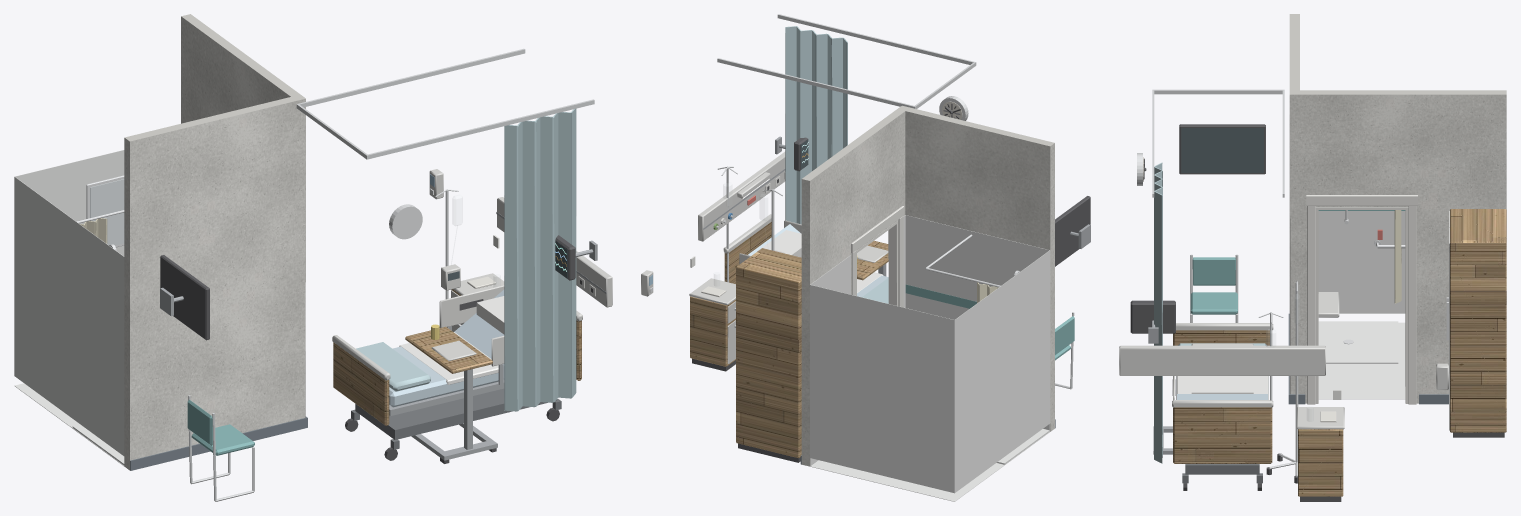
Rendered from room_ward_412x358.glb.
3 views of the same model, side by side, from view 1: azimuth 30°, elevation 25°; view 2: azimuth 150°, elevation 25°; view 3: azimuth 270°, elevation 25° (orthographic). The views are drawn at different scales.
Parts seen in each view (by area): view 1: room_ward_412x358_plaster, room_ward_412x358_tile_c, room_ward_412x358_curtain, room_ward_412x358_cart_w, room_ward_412x358_laminate, room_ward_412x358_steel, room_ward_412x358_steel_d, room_ward_412x358_alu, room_ward_412x358_dark, room_ward_412x358_bed_b, room_ward_412x358_chrome, room_ward_412x358_vinyl_t (+3 smaller); view 2: room_ward_412x358_tile_c, room_ward_412x358_plaster, room_ward_412x358_laminate, room_ward_412x358_curtain, room_ward_412x358_cart_w, room_ward_412x358_dark, room_ward_412x358_frame, room_ward_412x358_alu, room_ward_412x358_chrome, room_ward_412x358_vinyl_t, room_ward_412x358_bed_w, room_ward_412x358_steel; view 3: room_ward_412x358_plaster, room_ward_412x358_laminate, room_ward_412x358_tile_c, room_ward_412x358_cart_w, room_ward_412x358_frame, room_ward_412x358_screen, room_ward_412x358_dark, room_ward_412x358_curtain, room_ward_412x358_vinyl_t, room_ward_412x358_chrome, room_ward_412x358_bed_w, room_ward_412x358_alu (+6 smaller).
Boxes of the visible parts, x1,y1,x2,y2 form: room_ward_412x358_plaster: [124, 14, 305, 470]; room_ward_412x358_tile_c: [14, 150, 124, 465]; room_ward_412x358_curtain: [356, 108, 576, 411]; room_ward_412x358_cart_w: [332, 169, 612, 380]; room_ward_412x358_laminate: [333, 289, 581, 425]; room_ward_412x358_steel: [160, 212, 606, 460]; room_ward_412x358_steel_d: [351, 388, 561, 449]; room_ward_412x358_alu: [296, 48, 594, 159]; room_ward_412x358_dark: [160, 235, 593, 340]; room_ward_412x358_bed_b: [389, 289, 504, 407]; room_ward_412x358_chrome: [76, 175, 461, 501]; room_ward_412x358_vinyl_t: [187, 399, 254, 455]; room_ward_412x358_tile_c: [810, 215, 1050, 501]; room_ward_412x358_plaster: [801, 105, 1054, 466]; room_ward_412x358_laminate: [690, 222, 888, 458]; room_ward_412x358_curtain: [785, 26, 888, 303]; room_ward_412x358_cart_w: [641, 151, 888, 363]; room_ward_412x358_dark: [692, 103, 1090, 462]; room_ward_412x358_frame: [851, 206, 904, 307]; room_ward_412x358_alu: [717, 14, 976, 108]; room_ward_412x358_chrome: [649, 96, 1074, 389]; room_ward_412x358_vinyl_t: [905, 284, 1074, 360]; room_ward_412x358_bed_w: [758, 230, 883, 292]; room_ward_412x358_steel: [703, 136, 1090, 276]; room_ward_412x358_plaster: [1289, 14, 1506, 403]; room_ward_412x358_laminate: [1173, 209, 1506, 496]; room_ward_412x358_tile_c: [1318, 211, 1405, 399]; room_ward_412x358_cart_w: [1119, 210, 1449, 430]; room_ward_412x358_frame: [1306, 195, 1417, 404]; room_ward_412x358_screen: [1181, 128, 1263, 172]; room_ward_412x358_dark: [1130, 124, 1504, 501]; room_ward_412x358_curtain: [1154, 162, 1266, 463]; room_ward_412x358_vinyl_t: [1190, 210, 1405, 314]; room_ward_412x358_chrome: [1137, 153, 1448, 476]; room_ward_412x358_bed_w: [1176, 376, 1268, 399]; room_ward_412x358_alu: [1152, 89, 1284, 197].
Size of the model in its own units: 4.18 by 3.31 by 3.75.
Materials: 33 (2 with a texture image).
